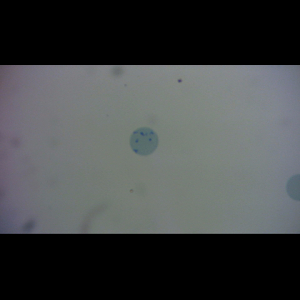aggregate reticulocyte: (128, 126, 161, 157)
